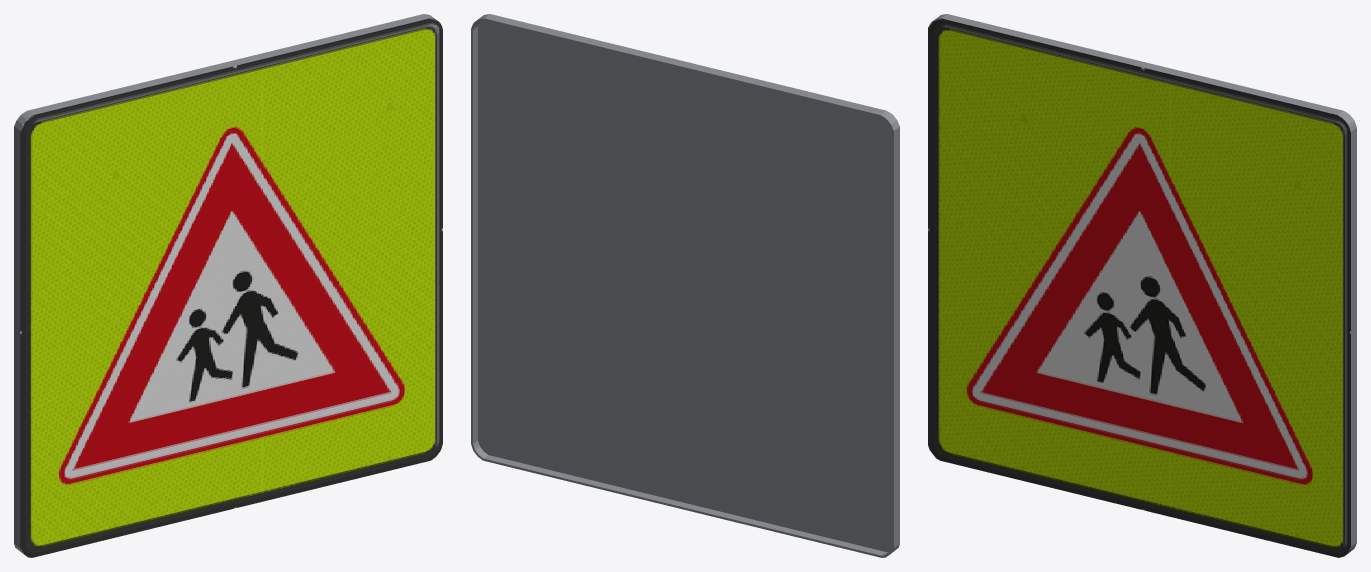
3 views of the same model, side by side, from view 1: azimuth 30°, elevation 25°; view 2: azimuth 150°, elevation 25°; view 3: azimuth 330°, elevation 25° (orthographic).
Visible parts, largest first — view 1: cat_42cd61ff0aa1bcdc; view 2: cat_42cd61ff0aa1bcdc; view 3: cat_42cd61ff0aa1bcdc.
Part boxes in pixels (x1,y1,x2,y2): cat_42cd61ff0aa1bcdc: [14, 14, 442, 557]; cat_42cd61ff0aa1bcdc: [471, 14, 899, 557]; cat_42cd61ff0aa1bcdc: [928, 14, 1356, 557].
Bounding box in the file's own units: 0.6 × 0.015 × 0.6.
Materials: 2 (1 with a texture image).
